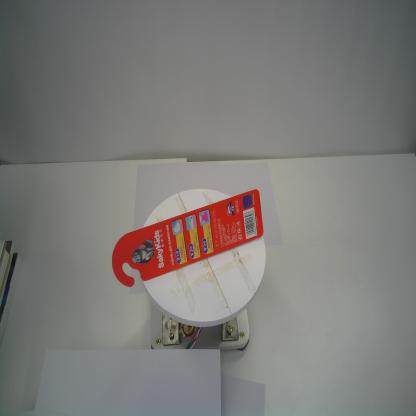Personal Hygiene: (111, 188, 264, 287)
